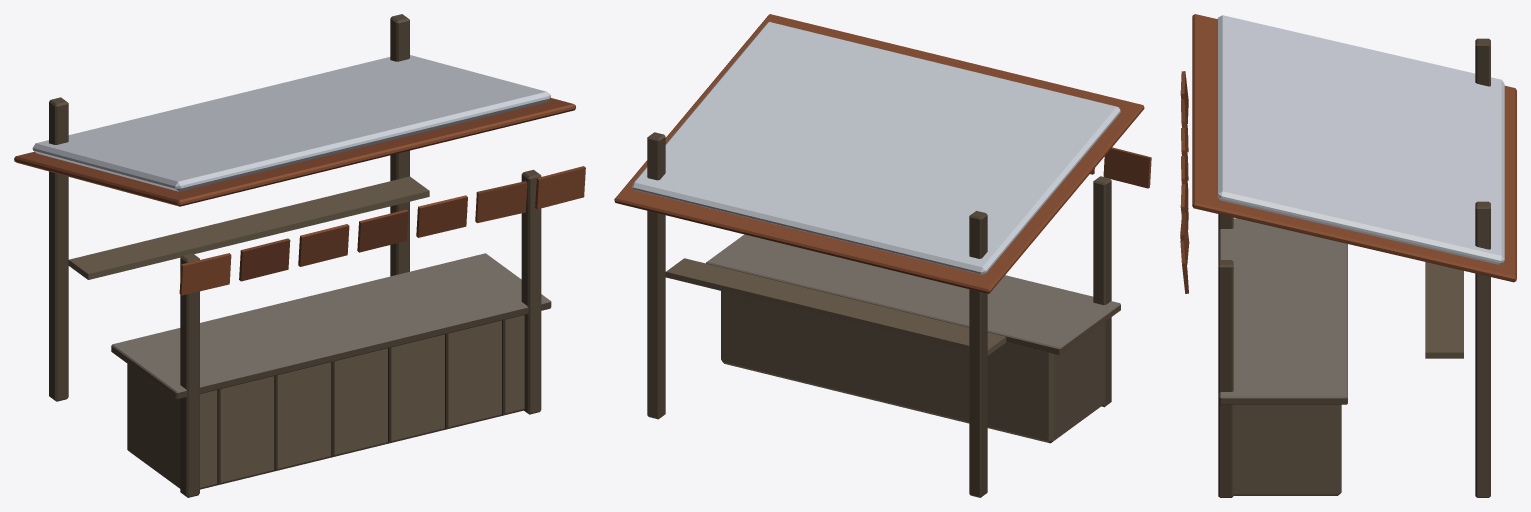
File: stall_rust.glb
3 renders of one model, left to right at view 1: azimuth 30°, elevation 25°; view 2: azimuth 150°, elevation 25°; view 3: azimuth 270°, elevation 25°, orthographic. The views are drawn at different scales.
Parts seen in each view (by area): view 1: stall_rust; view 2: stall_rust; view 3: stall_rust.
Boxes of the visible parts, x1,y1,x2,y2 form: stall_rust: (14,14,585,497); stall_rust: (614,14,1151,497); stall_rust: (1180,14,1516,497).
Bounding box in the file's own units: 3.54 × 2.67 × 2.62.
